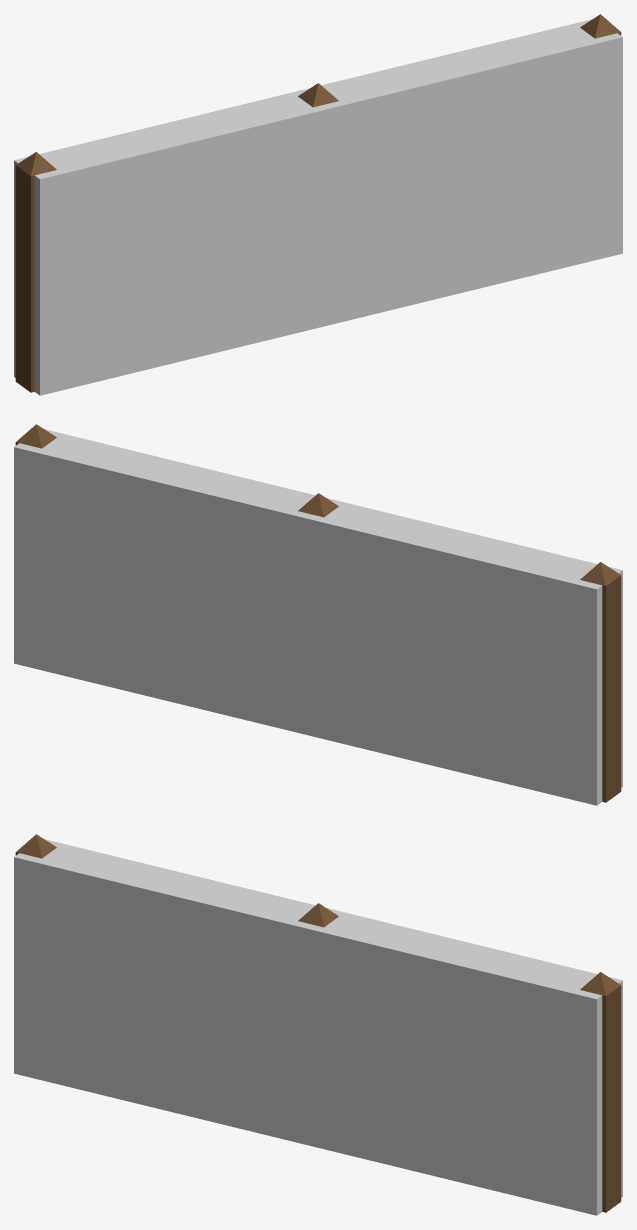
The model's file is valla.glb.
The picture shows the model from 3 angles, top to bottom: view 1: azimuth 30°, elevation 25°; view 2: azimuth 150°, elevation 25°; view 3: azimuth 330°, elevation 25°; orthographic projection.
Visible parts, largest first — view 1: COL_0, valla_Malla; view 2: COL_0, valla_Malla; view 3: COL_0, valla_Malla.
Part boxes in pixels (x1,y1,x2,y2): COL_0: [14, 19, 622, 395]; valla_Malla: [15, 14, 621, 392]; COL_0: [14, 429, 622, 805]; valla_Malla: [15, 424, 621, 802]; COL_0: [14, 839, 622, 1215]; valla_Malla: [15, 834, 621, 1212].
Bounding box in the file's own units: 3.14 × 1.18 × 0.24.
